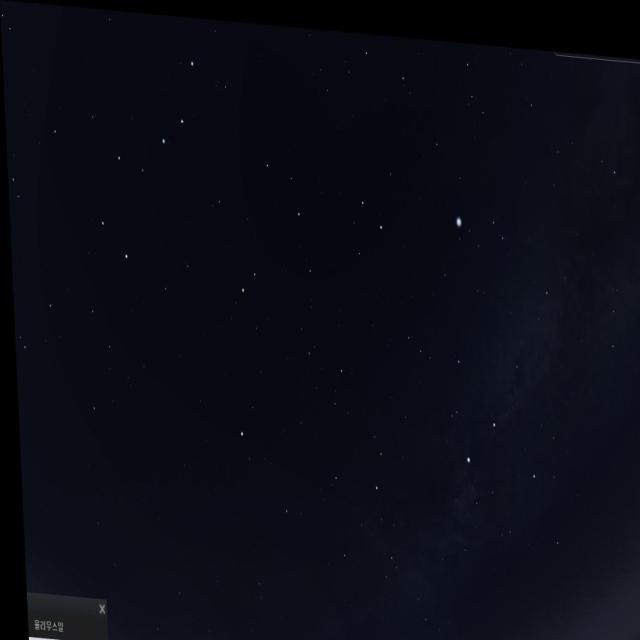cygnus: (440, 247, 566, 487)
lyra: (443, 177, 512, 257)
ursa_major: (82, 26, 215, 279)
